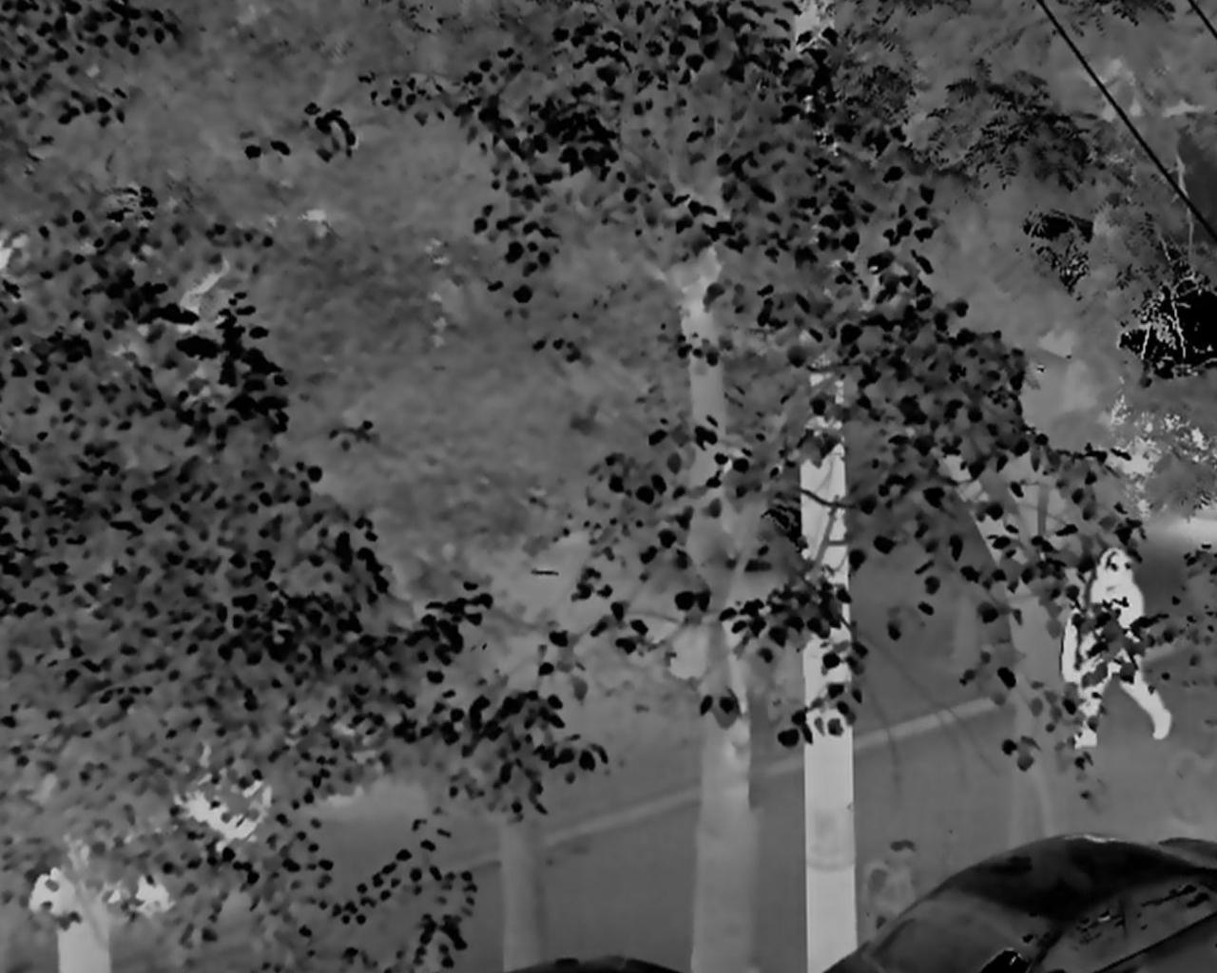person: (1072, 544, 1175, 743)
